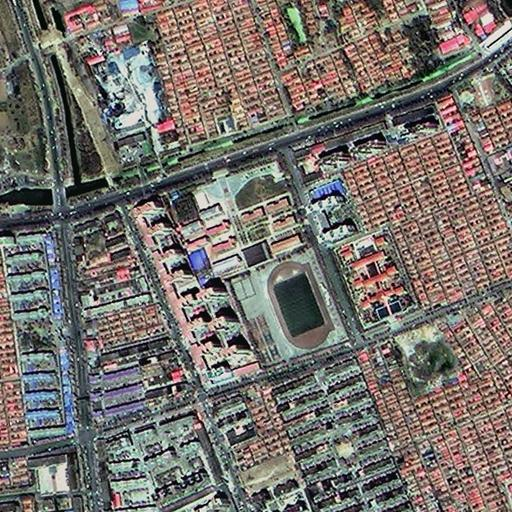school: (192, 156, 336, 350)
